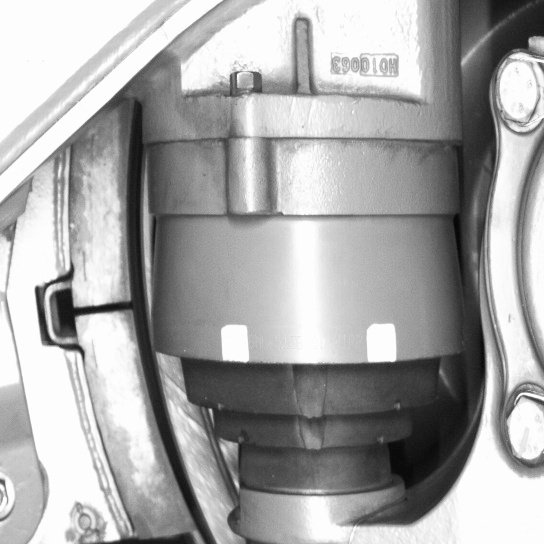KnifeSwitch: (73, 139, 219, 541)
